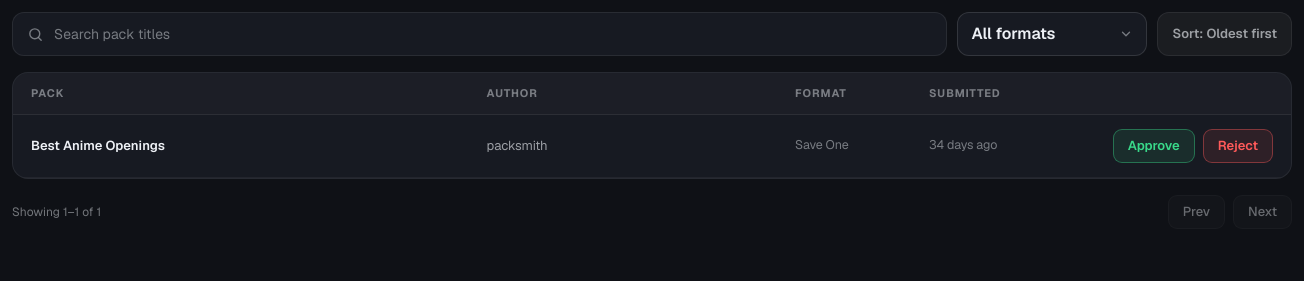
Test: PackApprovalsTab › surfaces a failed action instead of silently doing nothing
The image size is (1304, 281).
Expected: the link "Best Anime Openings" is shown, [31,137,165,154]
What coordinates should you click on to do the following:
click the button "Approve"
I would click on:
 (1154, 146)
Its box is [1113,128,1195,162].
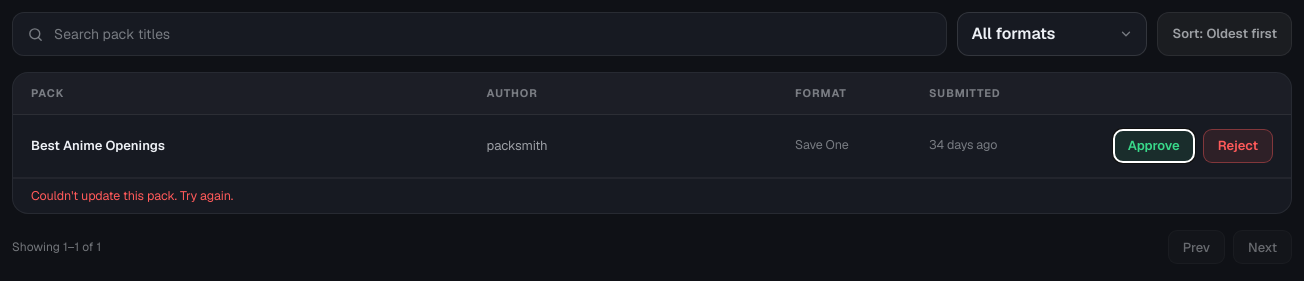
Result: the text "Couldn't update this pack. Try again." is shown at [13,178,1291,213]
